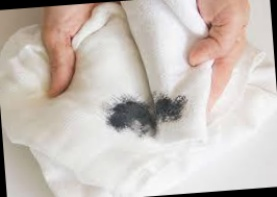ink: (106, 93, 188, 133)
